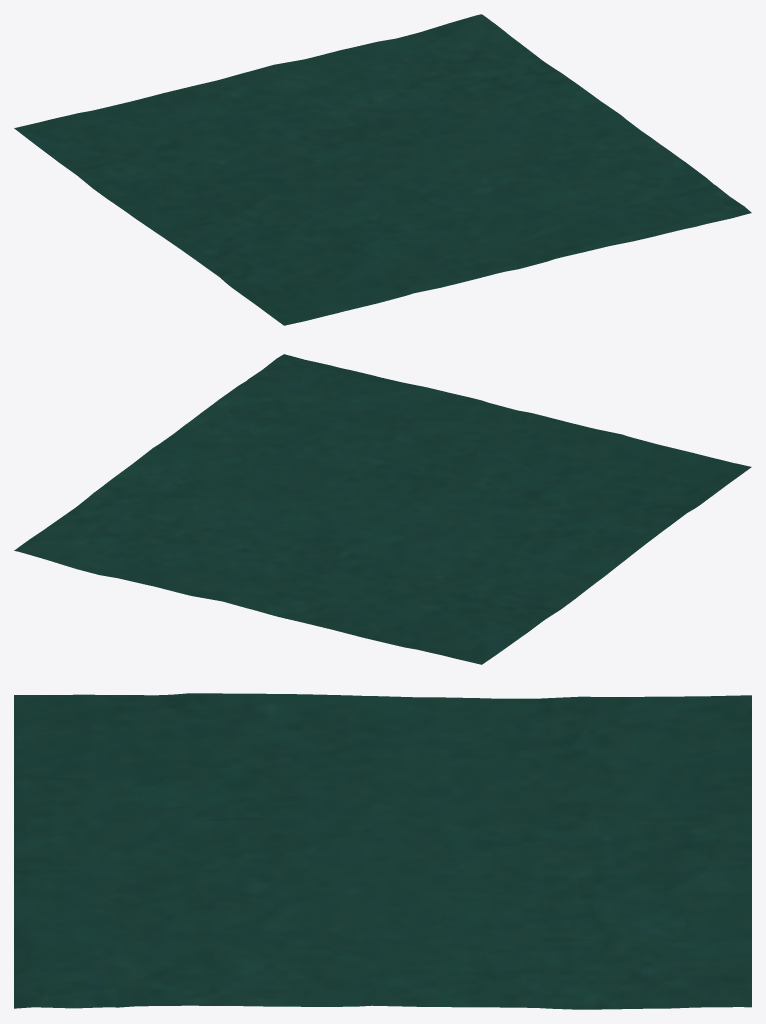
3 renders of one model, top to bottom at view 1: azimuth 30°, elevation 25°; view 2: azimuth 150°, elevation 25°; view 3: azimuth 270°, elevation 25°, orthographic. The views are drawn at different scales.
Bounding box in the file's own units: 52.22 × 0.6121 × 52.22.
2 materials, 2 textured.
